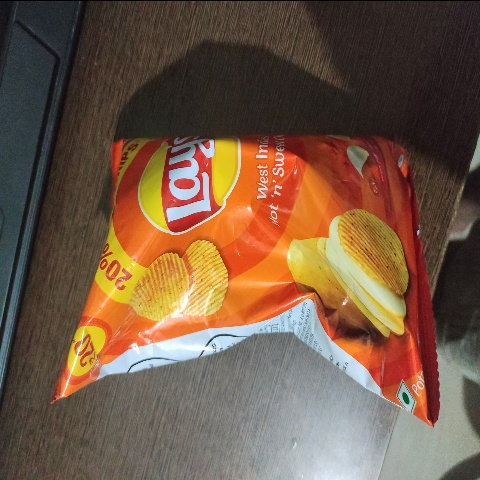lays_orange_pack: (50, 120, 457, 434)
